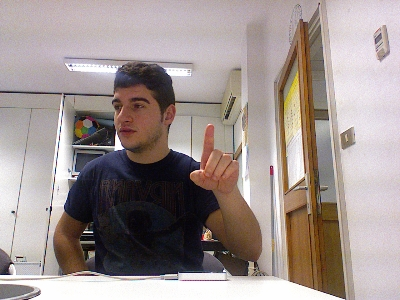食指: (187, 122, 241, 193)
